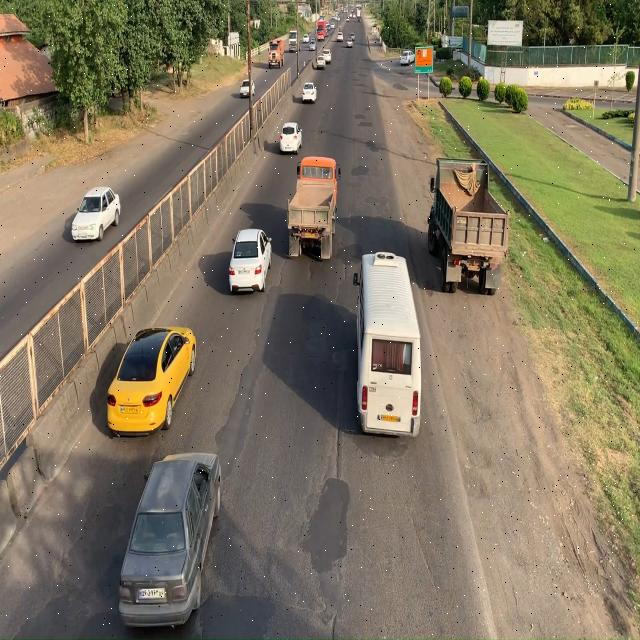Bus: (354, 245, 423, 445)
Truck: (425, 160, 510, 303), (288, 150, 340, 270)
cars: (117, 448, 222, 625), (105, 321, 198, 437), (227, 224, 273, 295), (71, 183, 123, 239), (279, 116, 302, 156)
